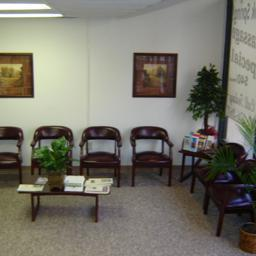Matera: (236, 118, 252, 250)
